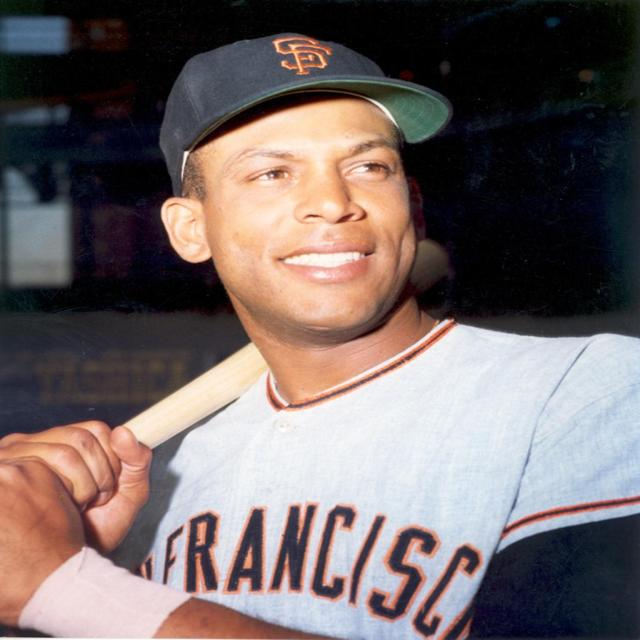Face: (166, 78, 447, 363)
